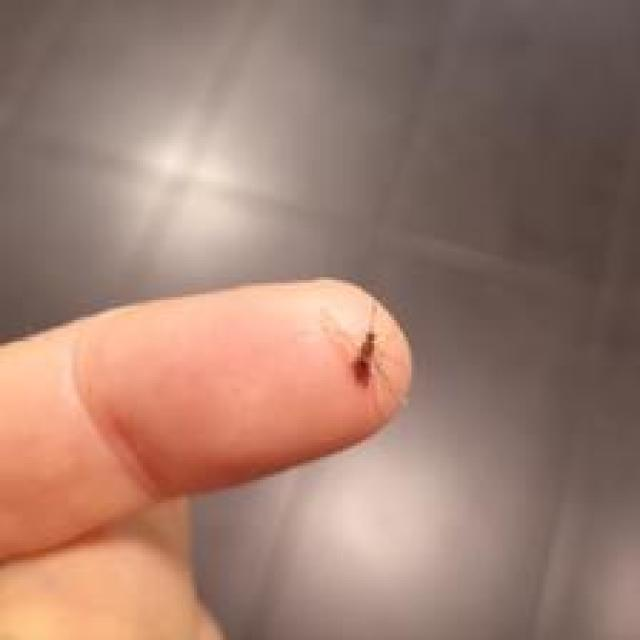Culex: (351, 299, 380, 387)
